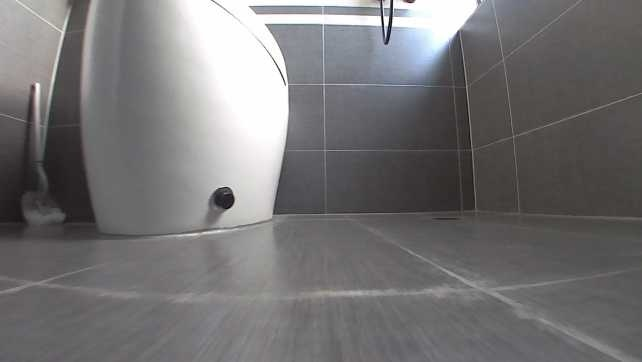toilet: (76, 1, 290, 233)
